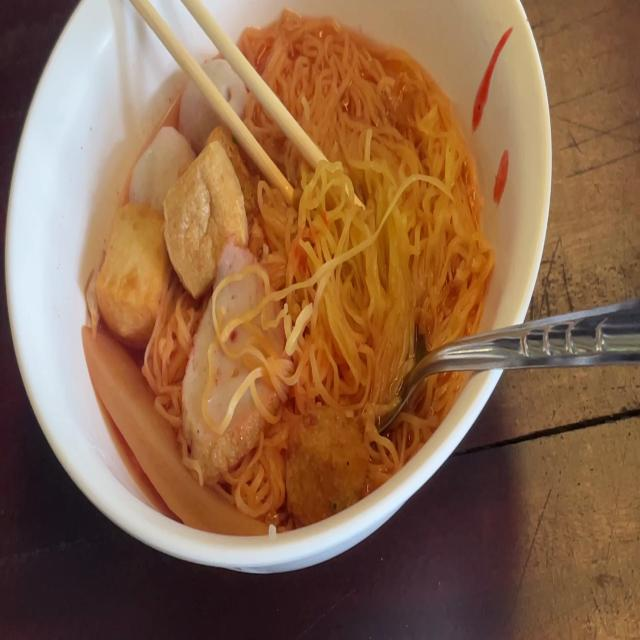crunchy_squid: (79, 326, 266, 541)
egg_noodles: (259, 21, 480, 408)
fish_ball: (128, 124, 195, 221), (177, 57, 244, 144)
fried_fish_balls: (185, 232, 286, 454)
fried_tofu: (164, 126, 254, 272)
noodle: (87, 12, 495, 533)
tofu: (93, 198, 170, 347)
